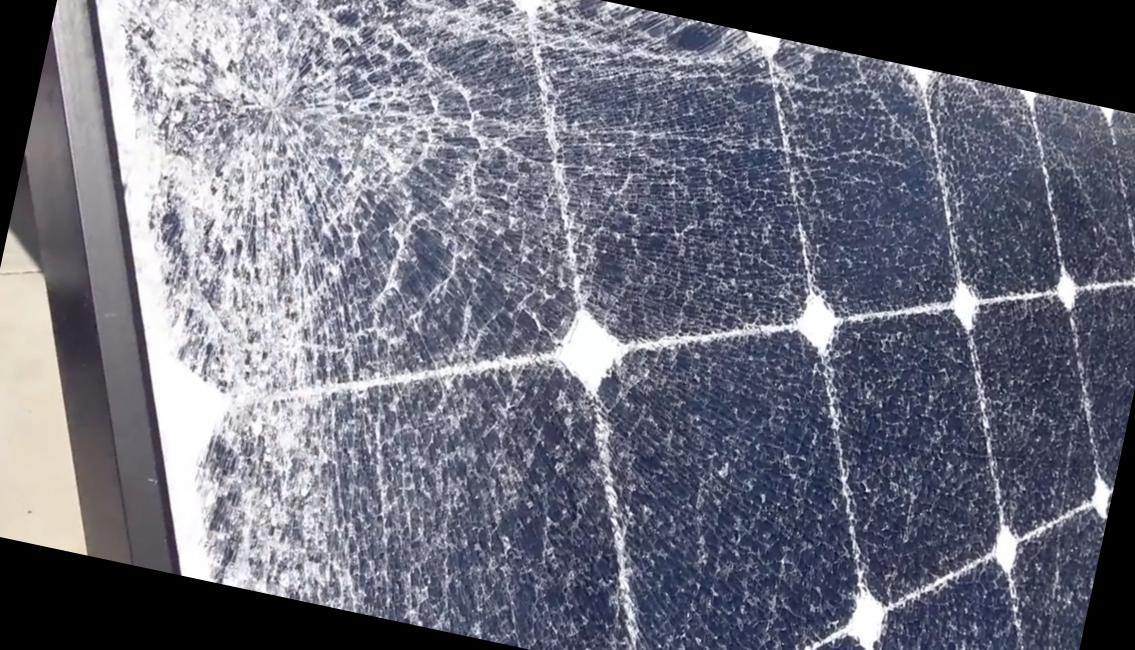Crack: (0, 0, 553, 397), (429, 274, 910, 649), (505, 0, 960, 348), (97, 333, 546, 642), (836, 263, 1134, 649), (915, 74, 1134, 296)
